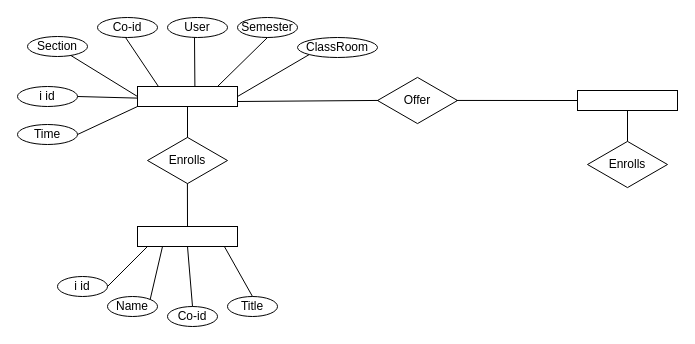
The diagram is 695 pixels wide and 344 high, and some of its shapes have lost their labels. Each missing label, with the centre of its shape:
Course: pixel 627 100
Course Offering: pixel 187 96
Instructor: pixel 187 236
